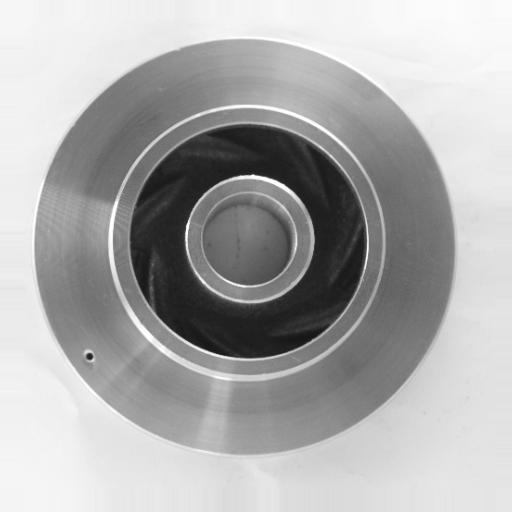pit: (77, 336, 106, 372)
unpolished_casting: (34, 36, 454, 461)
